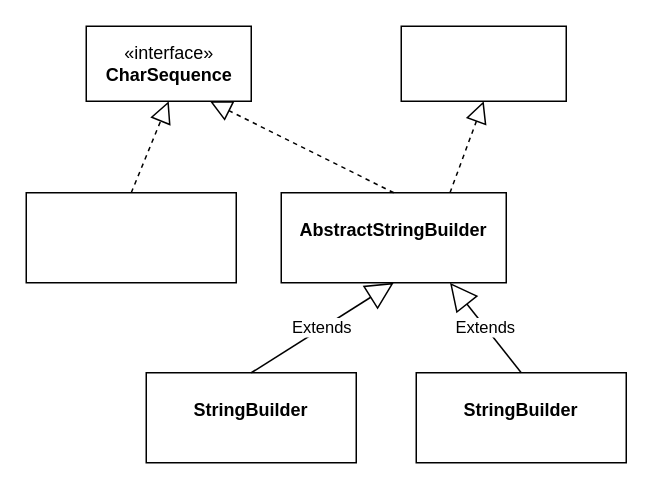
Image size: 653x489. Some labels were removed from this diagram. Here are the shapes that lost their labels. From the top down, the box of each, then its label:
(400, 25, 566, 101): «interface» Appendable
(25, 191, 236, 283): String
